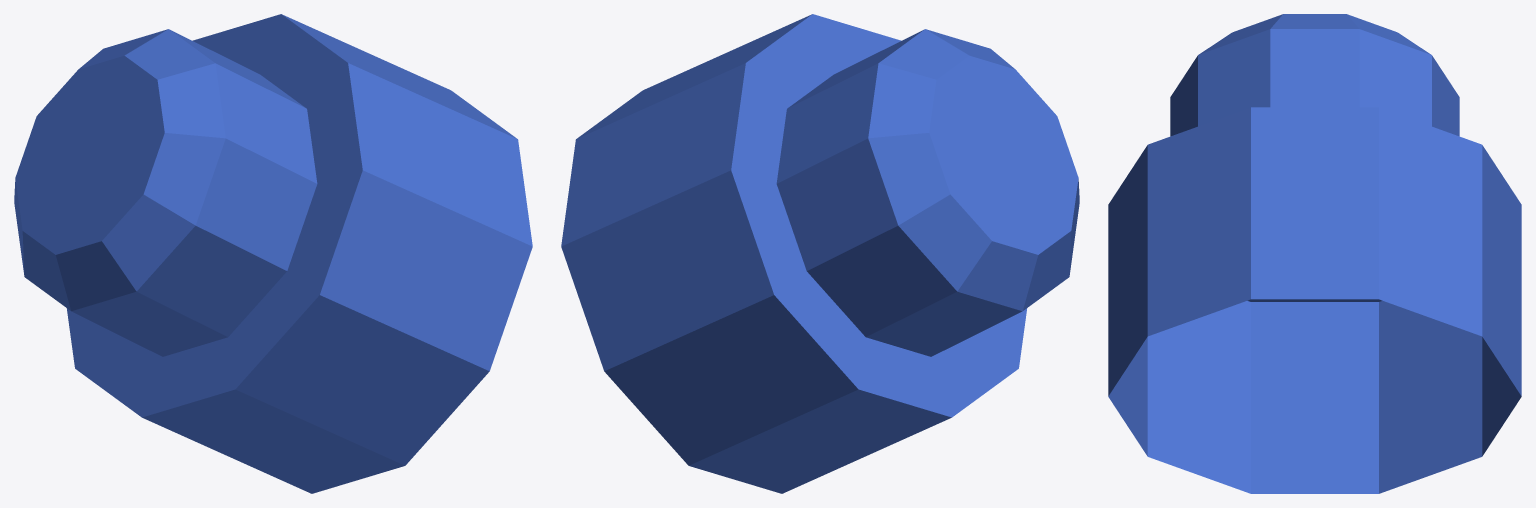
File: Dropship_03_Detail_01_Blue.fbx
3 renders of one model, left to right at view 1: azimuth 30°, elevation 25°; view 2: azimuth 150°, elevation 25°; view 3: azimuth 270°, elevation 25°, orthographic. The views are drawn at different scales.
Visible parts, largest first — view 1: Dropship_03_Detail_01_Blue; view 2: Dropship_03_Detail_01_Blue; view 3: Dropship_03_Detail_01_Blue.
Part boxes in pixels (x1,y1,x2,y2): Dropship_03_Detail_01_Blue: (14, 14, 532, 493); Dropship_03_Detail_01_Blue: (561, 14, 1079, 493); Dropship_03_Detail_01_Blue: (1108, 14, 1521, 493).
Size of the model in its own units: 33.83 by 32.25 by 28.46.
1 material, 1 textured.
